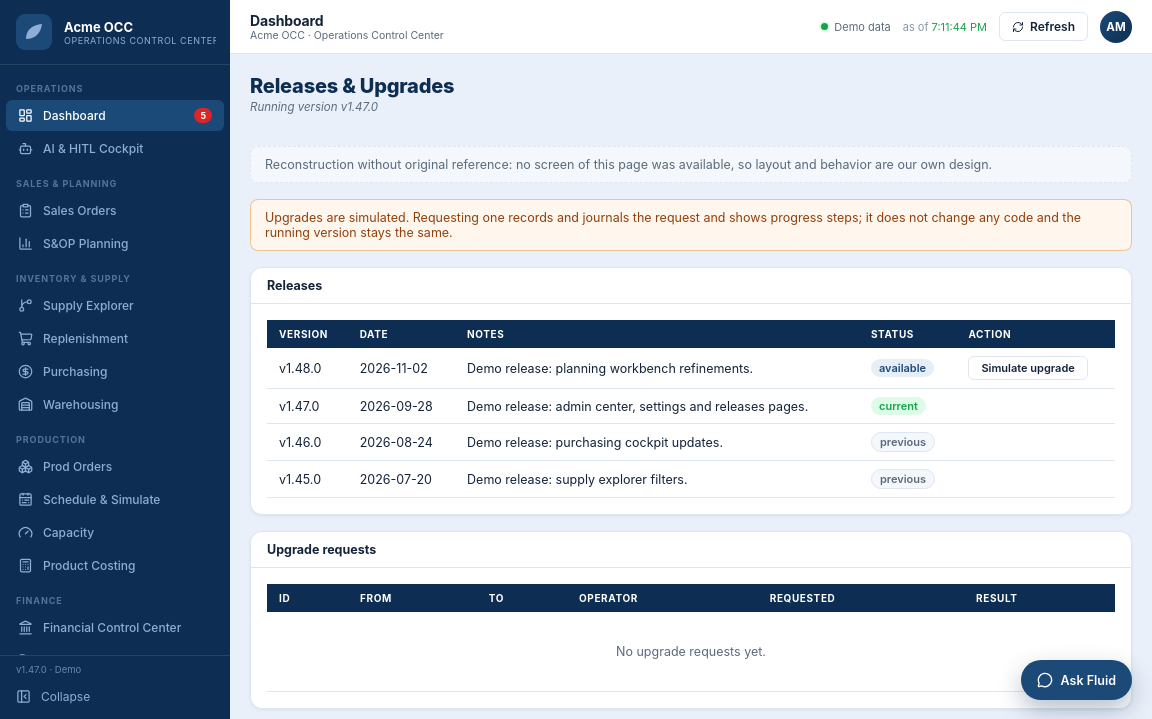
Releases › lists releases and simulates an upgrade without changing the version
Expected: the text "Running version v1.47.0" is shown, [250,100,378,114]
Expected: the text "Upgrades are simulated" is shown, [265,210,1081,240]
Click the button with aria-label "Simulate upgrade to 1.48.0" at (1028, 368), box [968,356,1088,380]
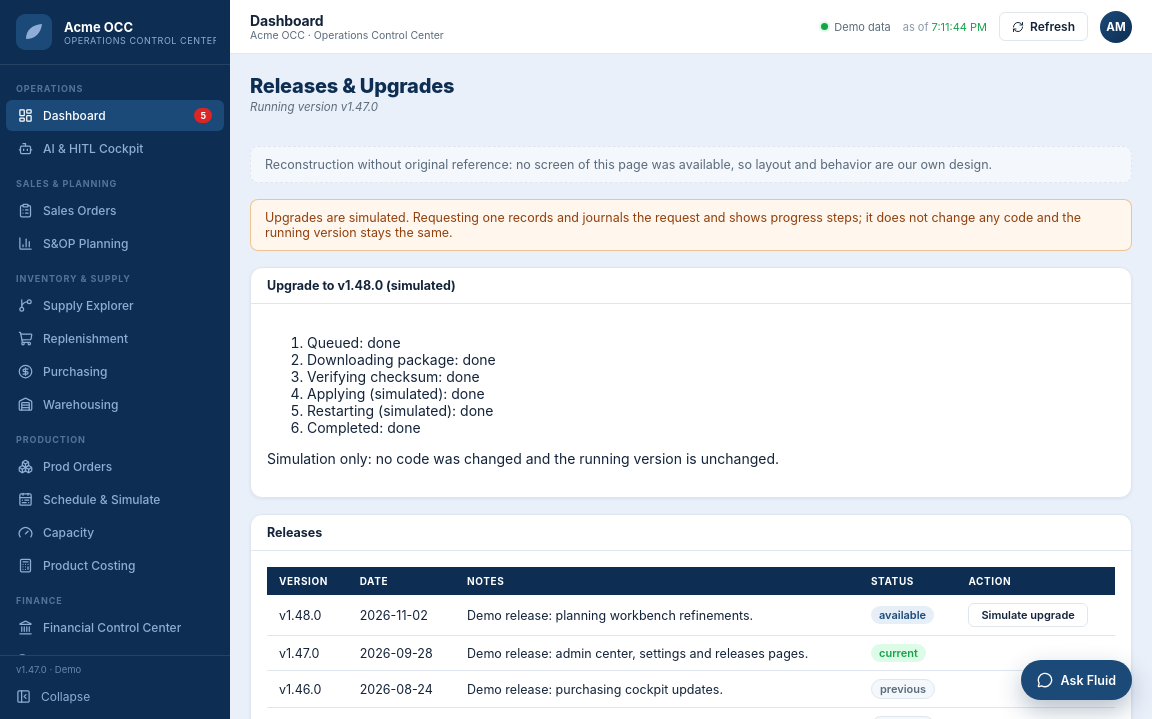
Expected: the text "Running version v1.47.0" is shown, [250,100,378,114]
Expected: the number of list items is 6, [307,334,401,351]; [307,351,496,368]; [307,368,480,385]; [307,385,485,402]; [307,402,494,419]; [307,419,421,436]
